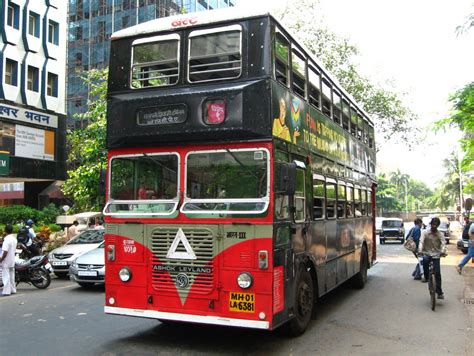bus: (105, 10, 376, 330)
person: (420, 219, 445, 297)
